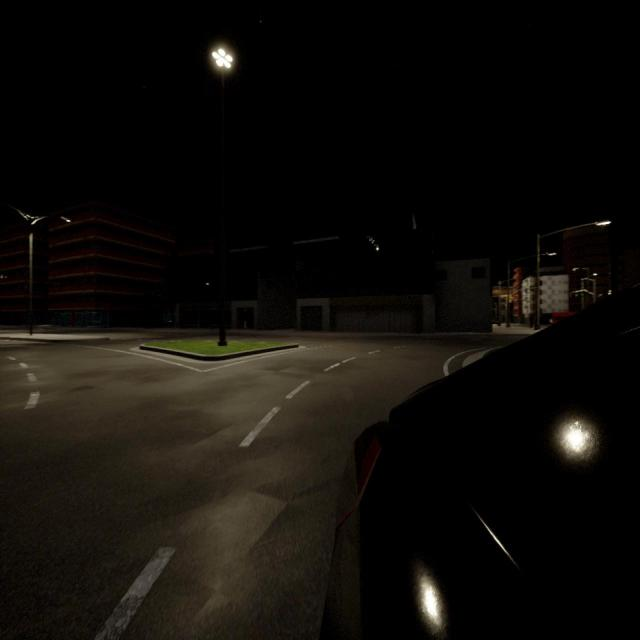Vehicle: (326, 294, 639, 638), (552, 312, 575, 324)
traffic_light: (581, 292, 584, 296), (576, 293, 578, 297), (512, 300, 514, 302)
